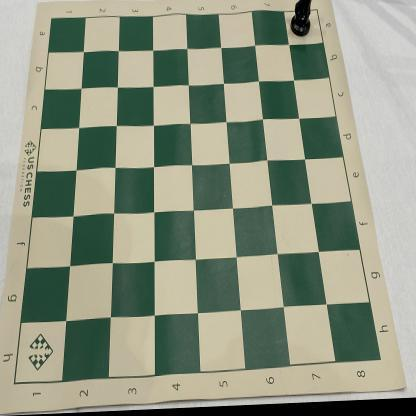black-knight: (290, 0, 314, 42)
